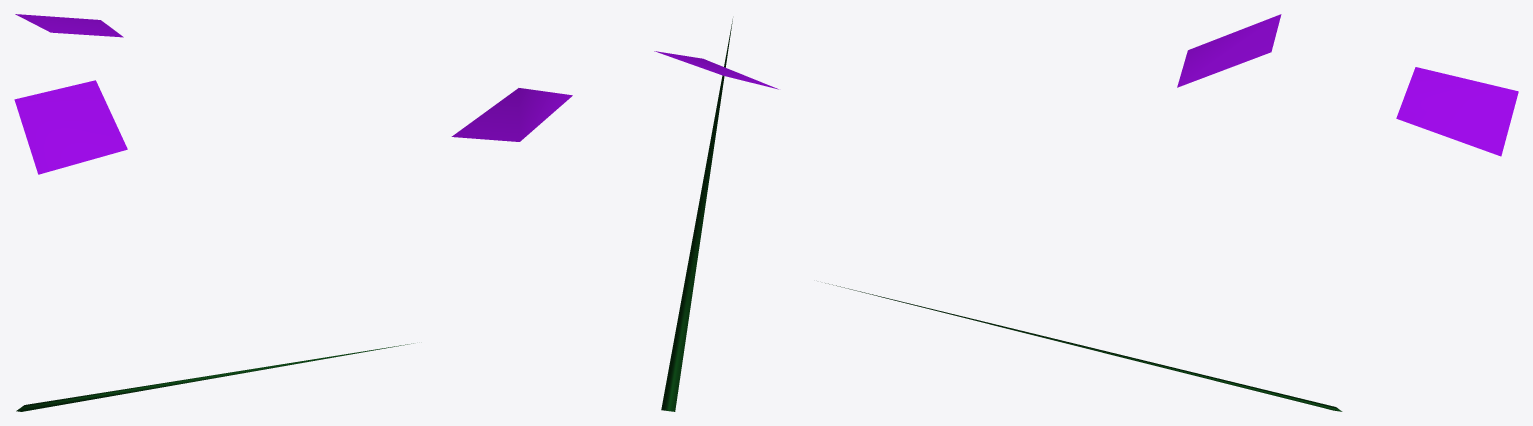
File: whGotuKolaPlant_low.glb
3 renders of one model, left to right at view 1: azimuth 30°, elevation 25°; view 2: azimuth 150°, elevation 25°; view 3: azimuth 270°, elevation 25°, orthographic. The views are drawn at different scales.
Visible parts, largest first — view 1: Icosphere.001, Icosphere; view 2: Icosphere.001, Icosphere; view 3: Icosphere.001, Icosphere.
Part boxes in pixels (x1=…): Icosphere.001: x1=14, y1=14, x2=127, y2=174; Icosphere: x1=16, y1=343, x2=413, y2=411; Icosphere.001: x1=451, y1=51, x2=778, y2=141; Icosphere: x1=661, y1=19, x2=732, y2=411; Icosphere.001: x1=1177, y1=14, x2=1518, y2=156; Icosphere: x1=825, y1=283, x2=1342, y2=411.
Bounding box in the file's own units: 0.2811 × 0.4225 × 0.7073.
